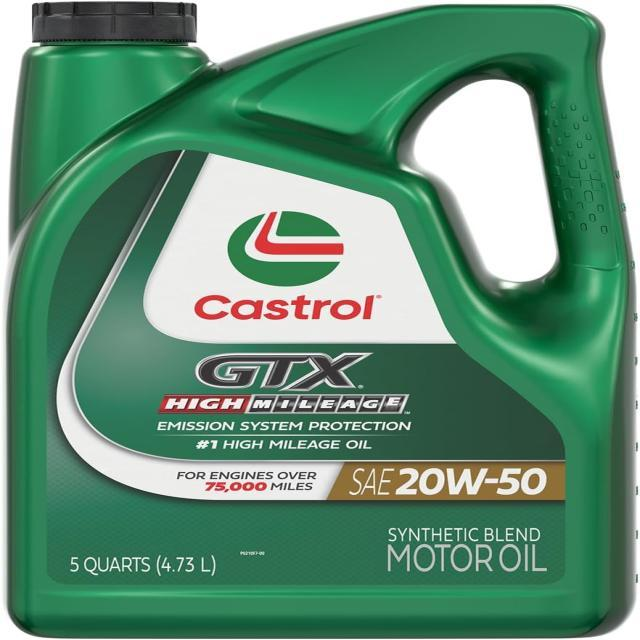motor_oil: (2, 0, 636, 640)
